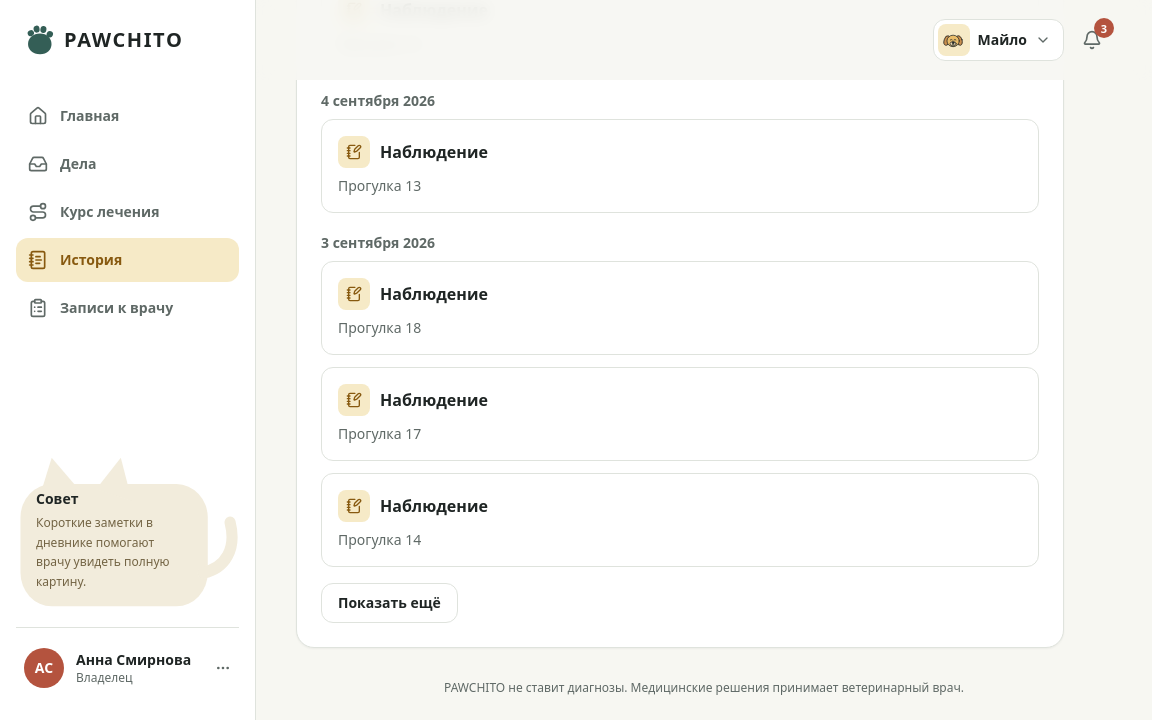
HistoryPage: лента истории › «Показать ещё» — следующая страница с даты последнего элемента; день не разрывается и не повторяется
(page scrolled)
Check: the number of elements named "Наблюдение 3 сентября 2026" is 3, box [321, 260, 1039, 354]; [321, 366, 1039, 460]; [321, 472, 1039, 566]
Check: the text "15 января 2026" is not shown
Click the button "Показать ещё".
click(389, 602)  # box [321, 582, 458, 622]
(page scrolled)
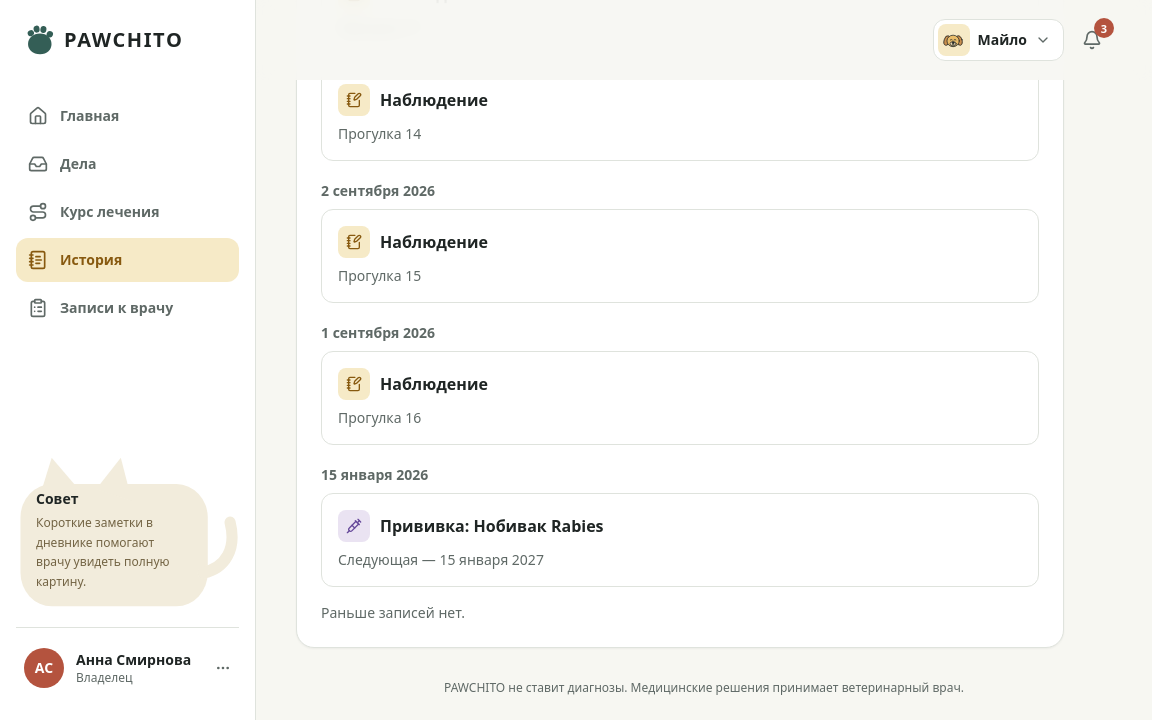
Check: the element named "Прививка: Нобивак Rabies 15 января 2026" is shown, box [321, 492, 1039, 586]
Check: the number of elements "Наблюдение 3 сентября 2026" is 3
Check: the button "Показать ещё" is gone
